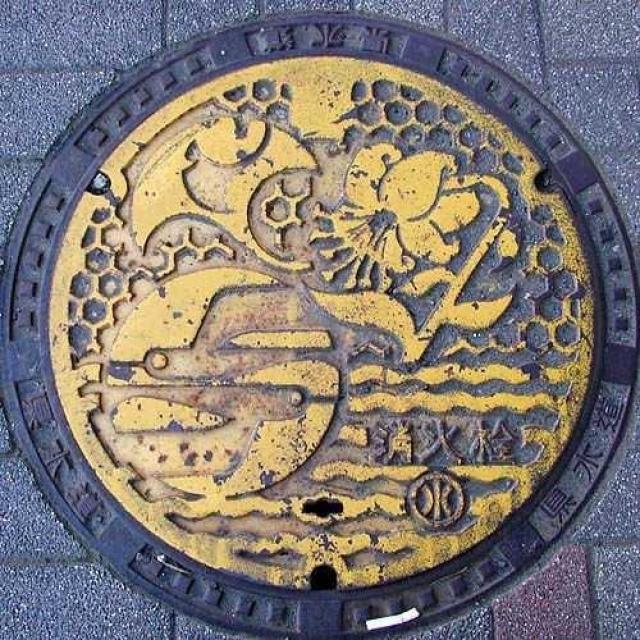manhole: (1, 14, 640, 640)
